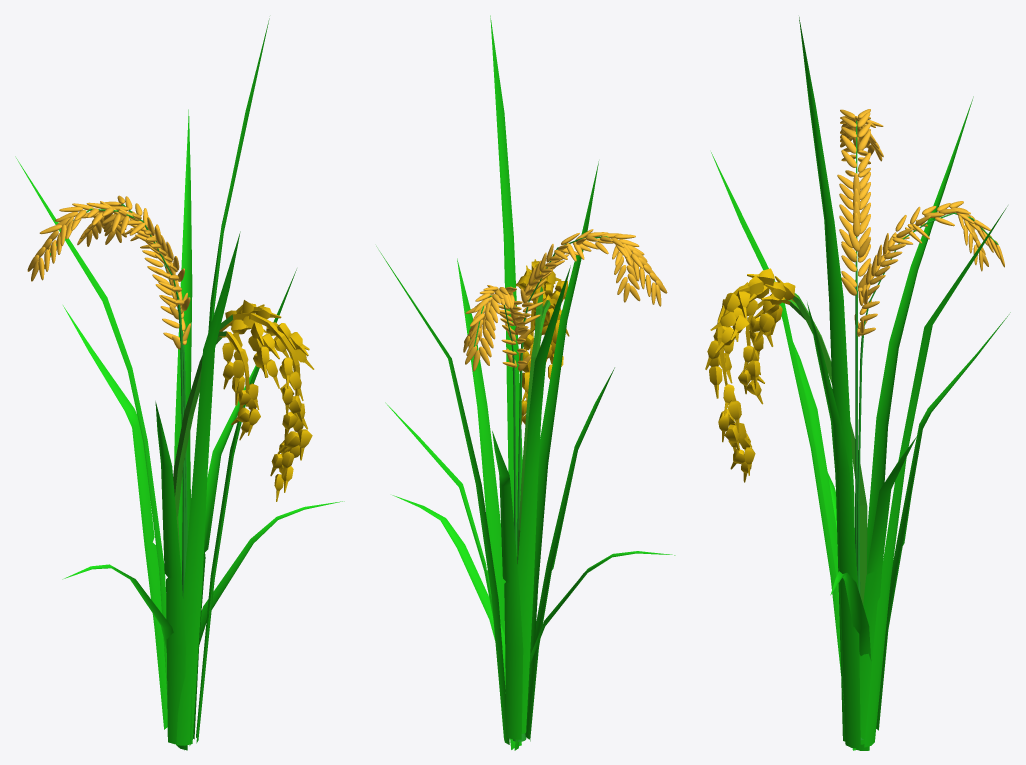
Rendered from ricePlant.fbx.
The picture shows the model from 3 angles, left to right: view 1: azimuth 30°, elevation 25°; view 2: azimuth 150°, elevation 25°; view 3: azimuth 270°, elevation 25°; orthographic projection. The views are drawn at different scales.
Parts seen in each view (by area): view 1: 平面.033; view 2: 平面.033; view 3: 平面.033.
Part boxes in pixels (bbox=[...]): 平面.033: bbox=[15, 18, 344, 750]; 平面.033: bbox=[376, 15, 675, 750]; 平面.033: bbox=[705, 17, 1010, 750].
Bounding box in the file's own units: 898 × 2115 × 769.
